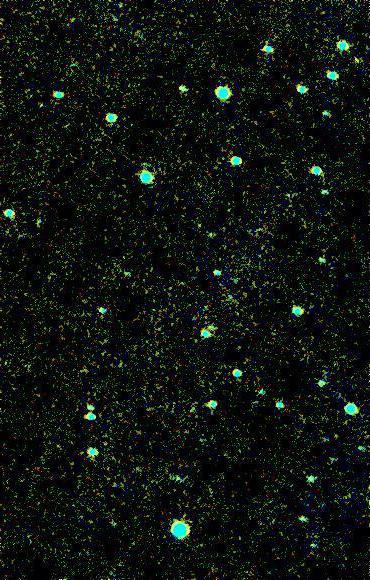star: (345, 41, 370, 71)
